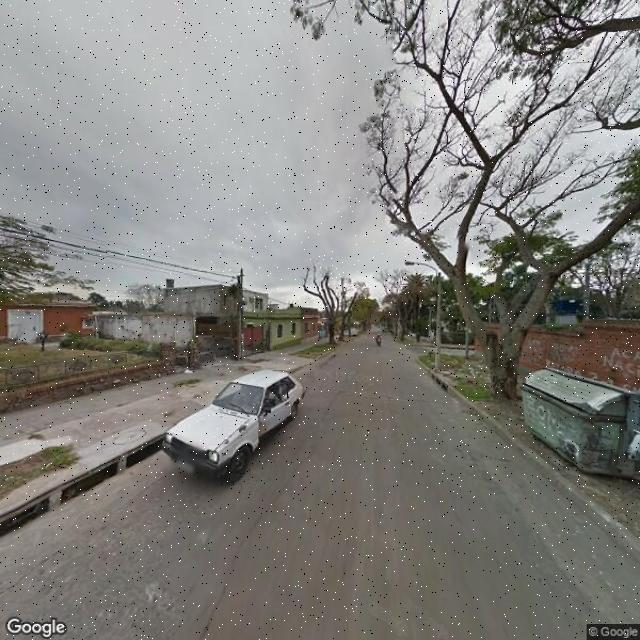garbage container: (511, 359, 640, 492)
